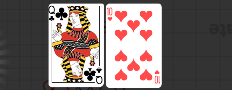10H: (107, 7, 114, 23)
